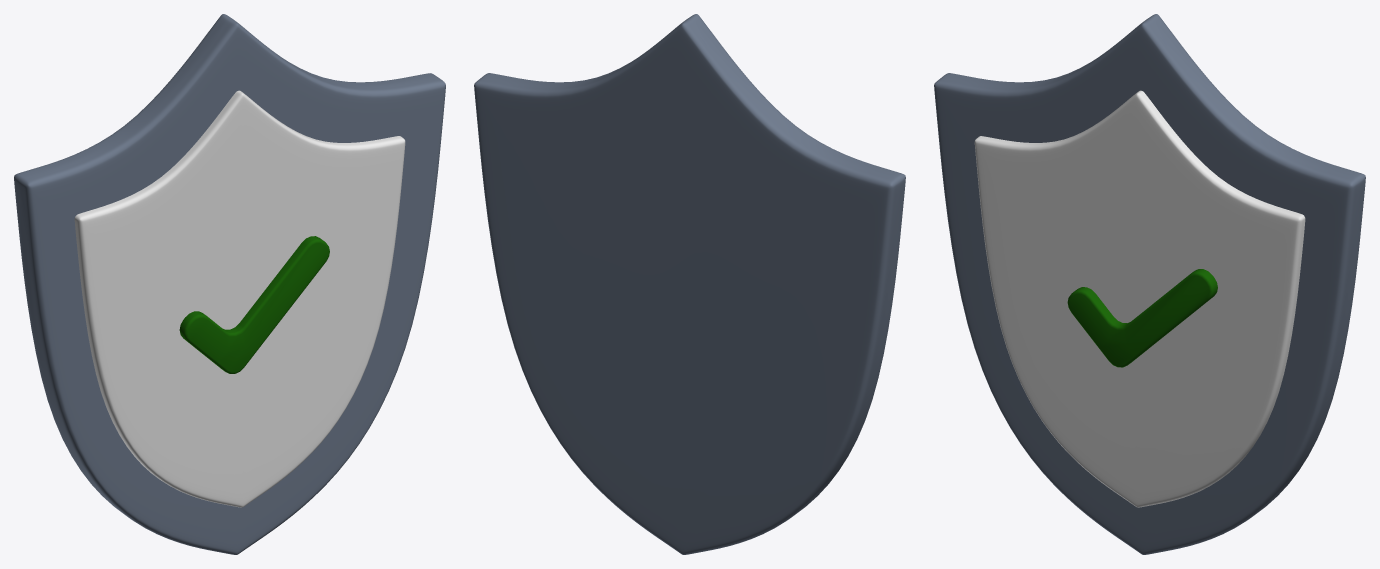
Rendered from shield.glb.
3 views of the same model, side by side, from view 1: azimuth 30°, elevation 25°; view 2: azimuth 150°, elevation 25°; view 3: azimuth 330°, elevation 25° (orthographic).
Visible parts, largest first — view 1: shield.001_2, shield_1, Plane.002_0; view 2: shield_1; view 3: shield.001_2, shield_1, Plane.002_0.
Part boxes in pixels (<box>): shield.001_2: <box>74,90,405,507</box>; shield_1: <box>14,14,445,554</box>; Plane.002_0: <box>179,236,329,373</box>; shield_1: <box>474,14,905,554</box>; shield.001_2: <box>974,90,1305,507</box>; shield_1: <box>934,14,1365,554</box>; Plane.002_0: <box>1067,269,1217,367</box>.
Bounding box in the file's own units: 1.49 × 1.8 × 0.171.
